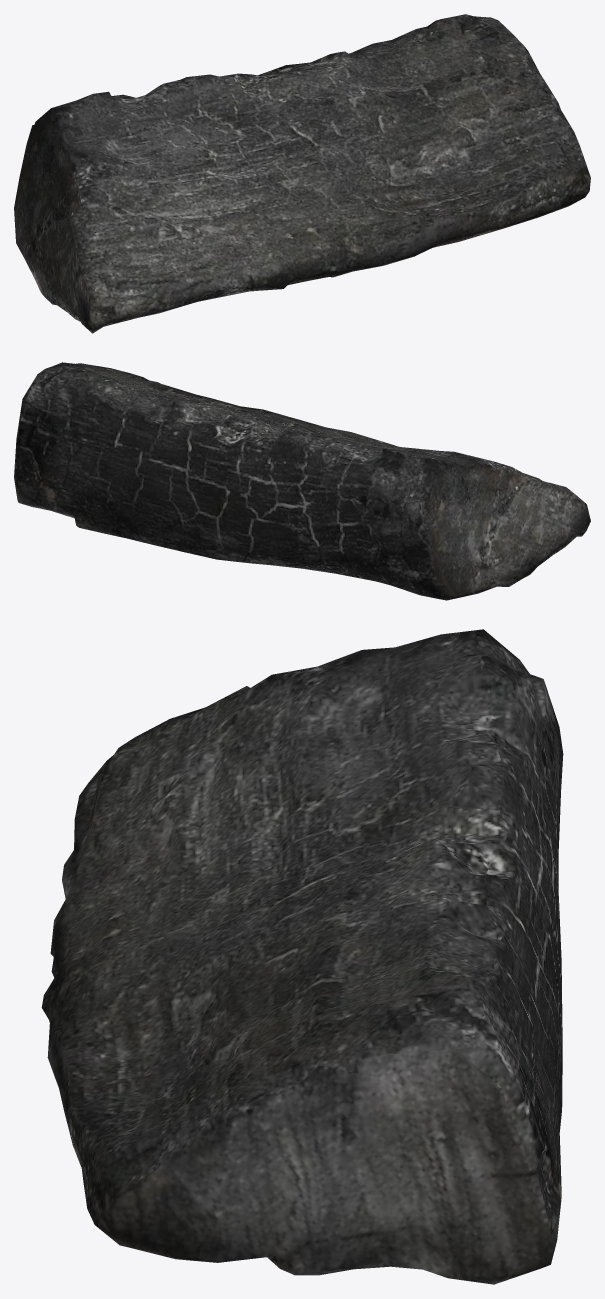
The model's file is firewood_a.glb.
3 views of the same model, one above another, from view 1: azimuth 30°, elevation 25°; view 2: azimuth 150°, elevation 25°; view 3: azimuth 270°, elevation 25° (orthographic). The views are drawn at different scales.
Visible parts, largest first — view 1: firewoodA_S_Burnt_Firewood_udthdasiw_lod3_Var1_LOD0; view 2: firewoodA_S_Burnt_Firewood_udthdasiw_lod3_Var1_LOD0; view 3: firewoodA_S_Burnt_Firewood_udthdasiw_lod3_Var1_LOD0.
Boxes of the visible parts, left/top/right/bottom form: firewoodA_S_Burnt_Firewood_udthdasiw_lod3_Var1_LOD0: left=14, top=14, right=590, bottom=333; firewoodA_S_Burnt_Firewood_udthdasiw_lod3_Var1_LOD0: left=14, top=362, right=590, bottom=600; firewoodA_S_Burnt_Firewood_udthdasiw_lod3_Var1_LOD0: left=41, top=629, right=563, bottom=1284.
Size of the model in its own units: 0.2257 by 0.0639 by 0.1085.
Materials: 1 (1 with a texture image).
